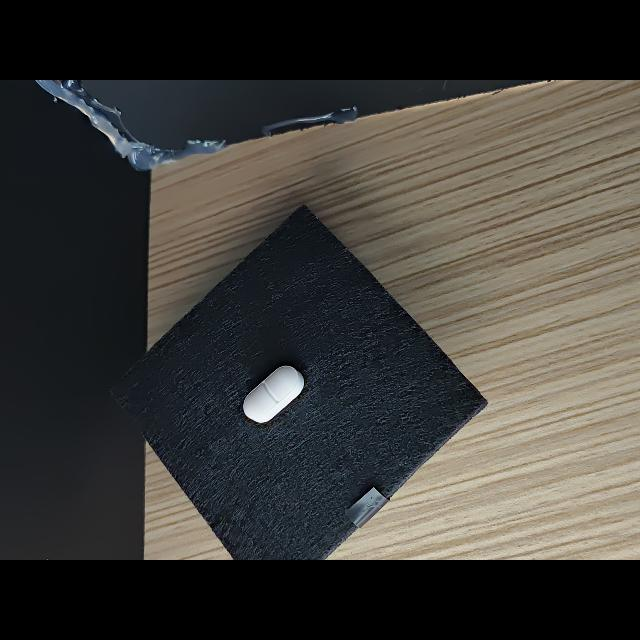Intact Pill: (243, 366, 304, 423)
